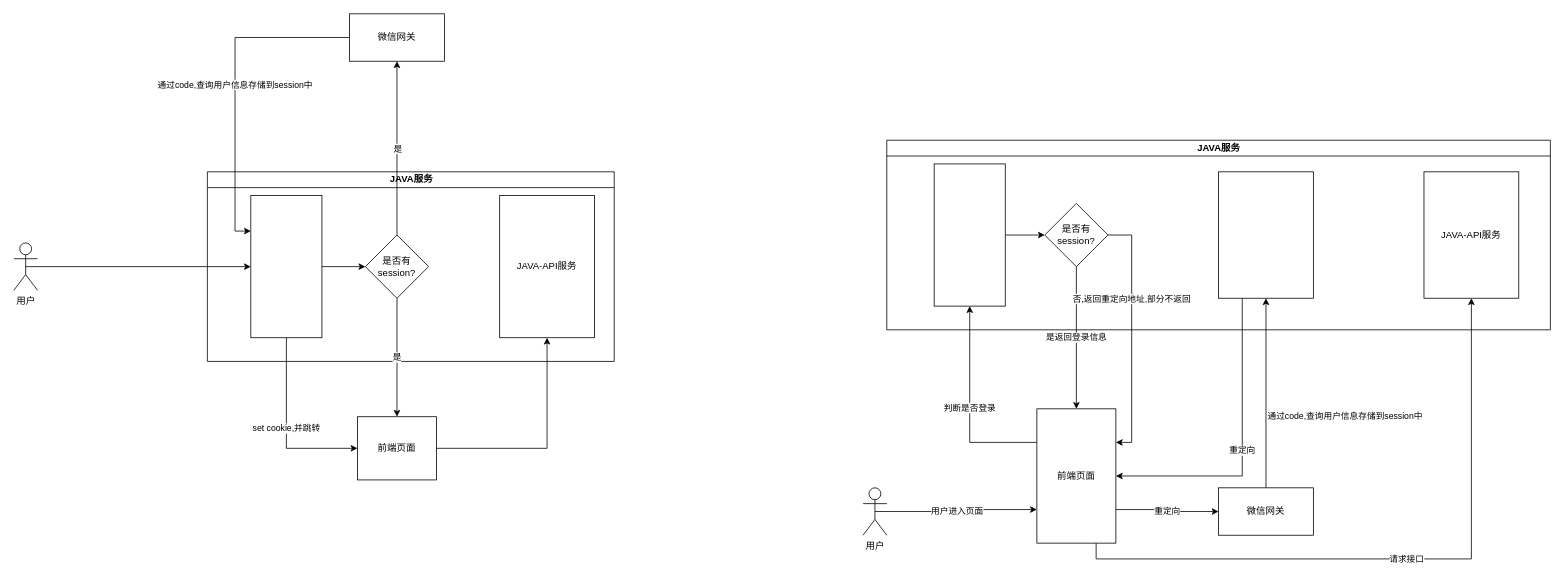
Image size: 1564x579. Some labels were removed from this diagram. Here are the shapes that lost their labels. From the top down, the centre of each, then its label:
the point at 969,234: 登录校验接口
the point at 1265,234: 登录接口
the point at 286,266: java服务器 代理拦截
